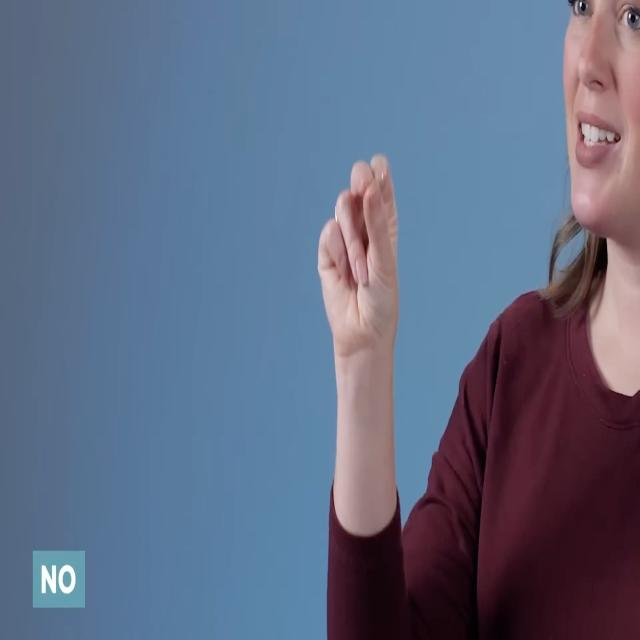no: (298, 121, 425, 372)
